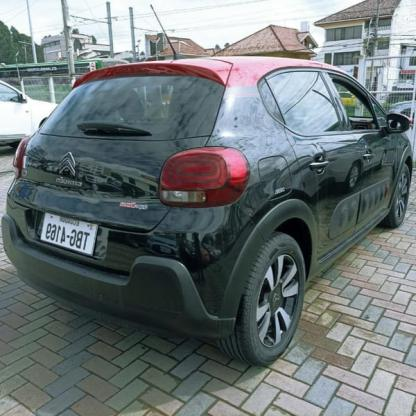Placa: (34, 211, 97, 254)
